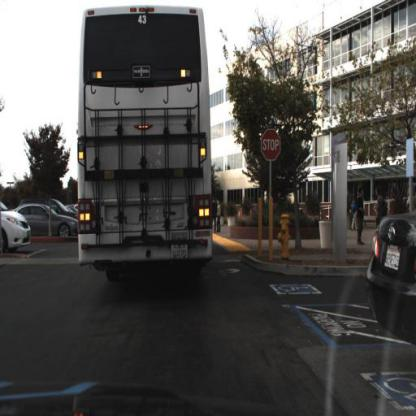car: (14, 203, 80, 239), (1, 198, 31, 253)
pedestrian: (372, 188, 390, 232), (354, 186, 366, 251), (373, 186, 386, 225), (217, 199, 225, 234)
truck: (71, 5, 217, 302)
